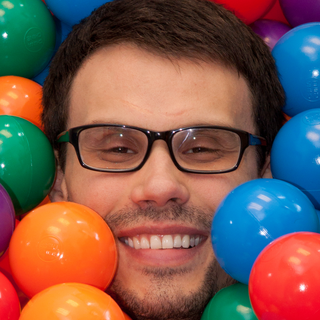eye: (95, 141, 139, 164), (180, 140, 219, 160)
